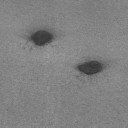iron sheet ash: (30, 28, 54, 48), (76, 60, 104, 76)
